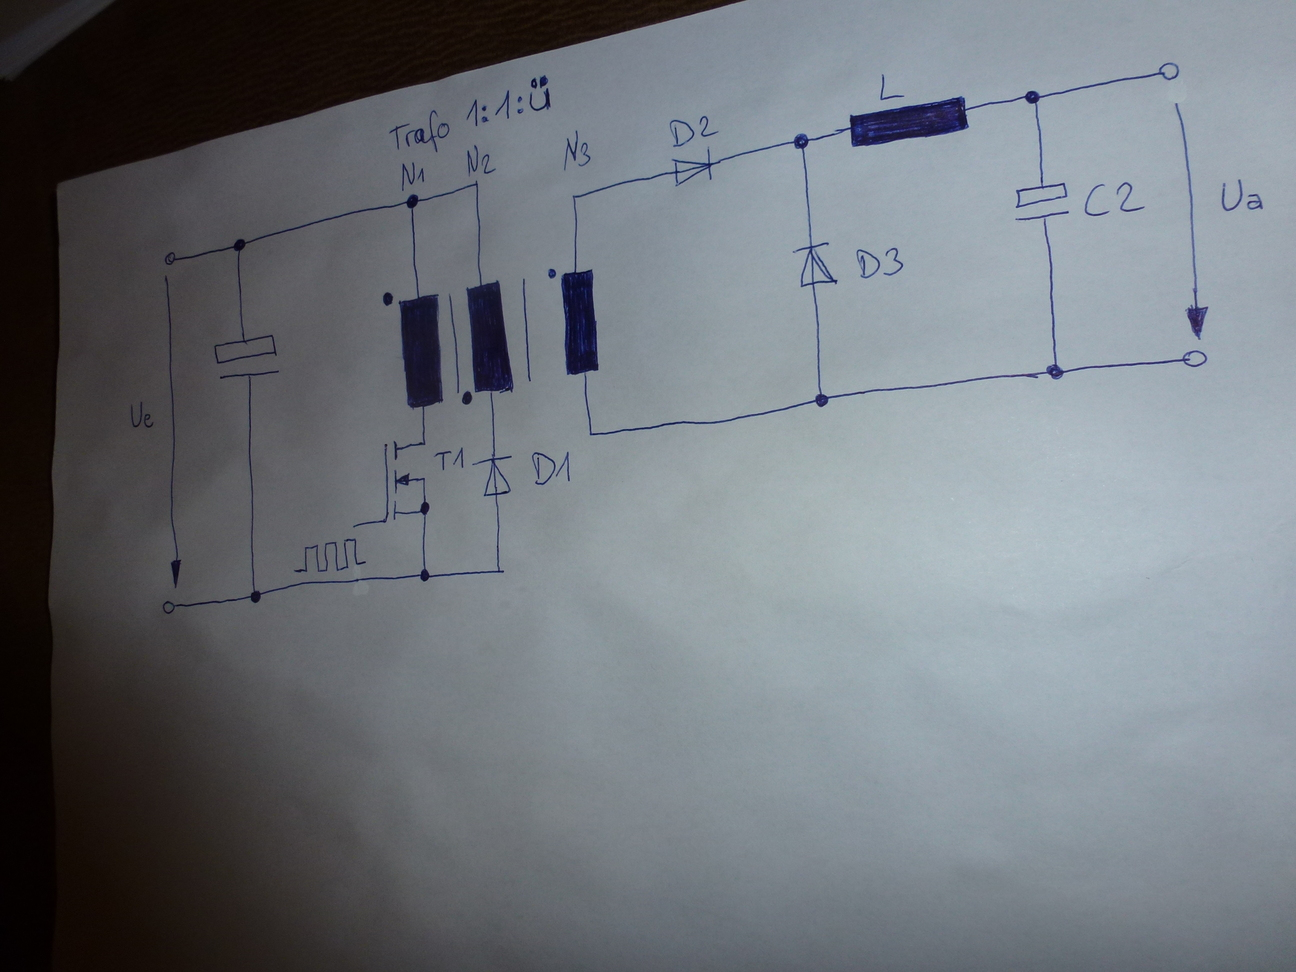capacitor.polarized: (212, 331, 283, 382), (1011, 178, 1073, 226)
diode: (792, 239, 839, 291), (668, 146, 718, 190), (478, 450, 516, 497)
inductor: (841, 87, 971, 154)
junction: (787, 127, 812, 154), (1019, 84, 1046, 109), (1041, 359, 1069, 383), (811, 389, 832, 410), (405, 190, 420, 212), (231, 237, 248, 254), (247, 587, 263, 605), (566, 190, 584, 206), (417, 567, 431, 583), (584, 427, 598, 440), (471, 177, 484, 190), (494, 565, 506, 576)
terminal: (1152, 58, 1181, 84), (1181, 347, 1211, 369), (160, 249, 181, 268), (160, 597, 178, 617), (348, 520, 362, 531)
text: (447, 76, 554, 129), (388, 106, 464, 151), (1077, 181, 1145, 218), (851, 244, 905, 281), (1216, 175, 1264, 214), (528, 449, 575, 489), (667, 113, 718, 146), (560, 131, 593, 171), (434, 445, 470, 475), (463, 145, 496, 177), (397, 160, 427, 191), (126, 400, 153, 430)
transformer: (380, 265, 606, 414)
transistor: (381, 435, 432, 527)
